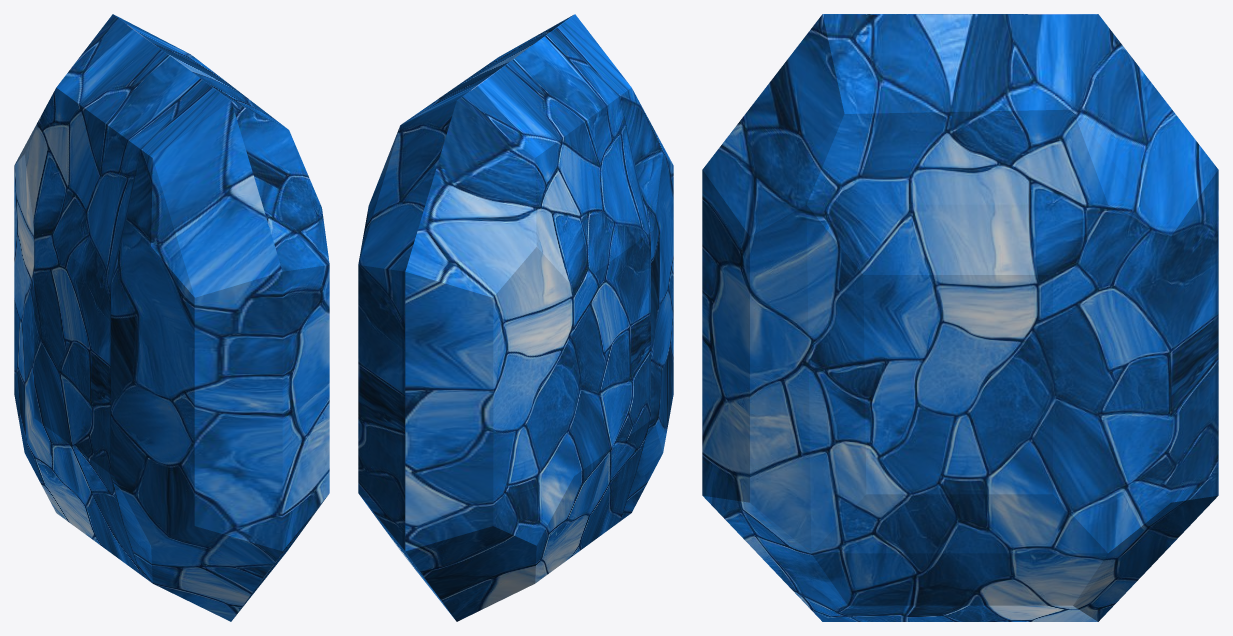
The model's file is gemstone8BlueCompressed.glb.
The picture shows the model from 3 angles, left to right: view 1: azimuth 30°, elevation 25°; view 2: azimuth 150°, elevation 25°; view 3: azimuth 270°, elevation 25°; orthographic projection. The views are drawn at different scales.
Parts seen in each view (by area): view 1: gemstone7; view 2: gemstone7; view 3: gemstone7.
Boxes of the visible parts, x1,y1,x2,y2 form: gemstone7: [14, 14, 329, 621]; gemstone7: [358, 14, 673, 621]; gemstone7: [702, 14, 1218, 621].
Size of the model in its own units: 0.5 by 1.3 by 1.
1 material, 1 textured.
